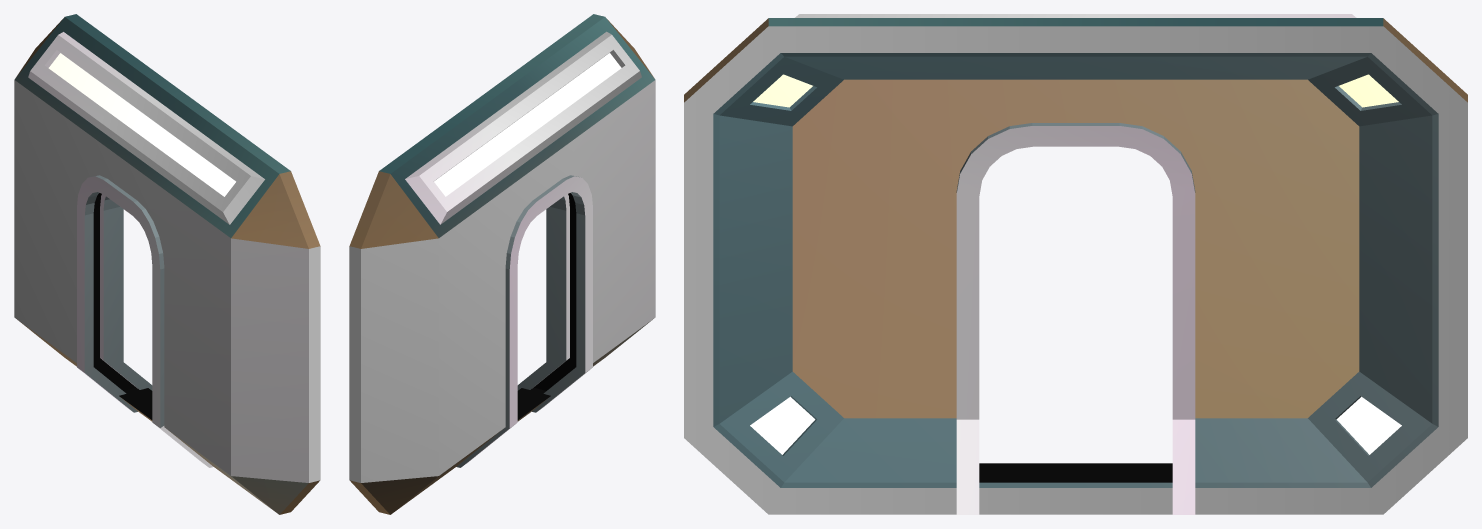
File: C_CapDoor.fbx
3 views of the same model, side by side, from view 1: azimuth 30°, elevation 25°; view 2: azimuth 150°, elevation 25°; view 3: azimuth 270°, elevation 25° (orthographic). The views are drawn at different scales.
Parts seen in each view (by area): view 1: C_CapDoor; view 2: C_CapDoor; view 3: C_CapDoor.
Part boxes in pixels (x1=…): C_CapDoor: x1=14, y1=14, x2=320, y2=514; C_CapDoor: x1=349, y1=14, x2=655, y2=514; C_CapDoor: x1=684, y1=14, x2=1467, y2=514.
Size of the model in its own units: 82.93 by 330 by 480.
